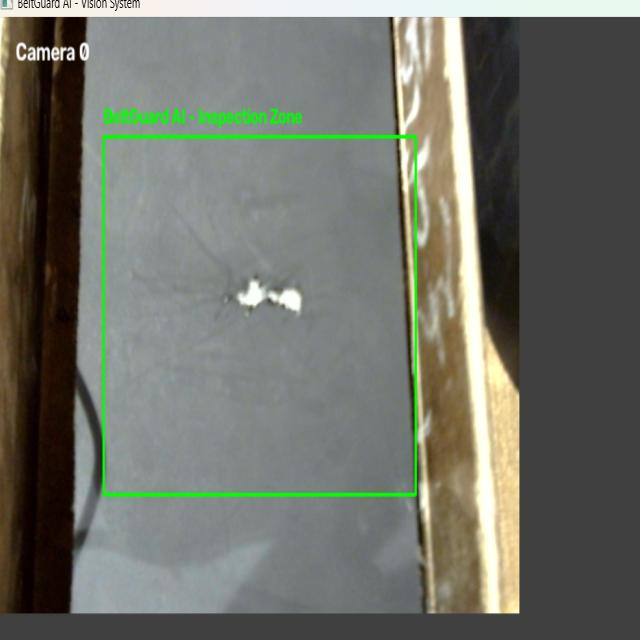scratch: (127, 181, 352, 377)
